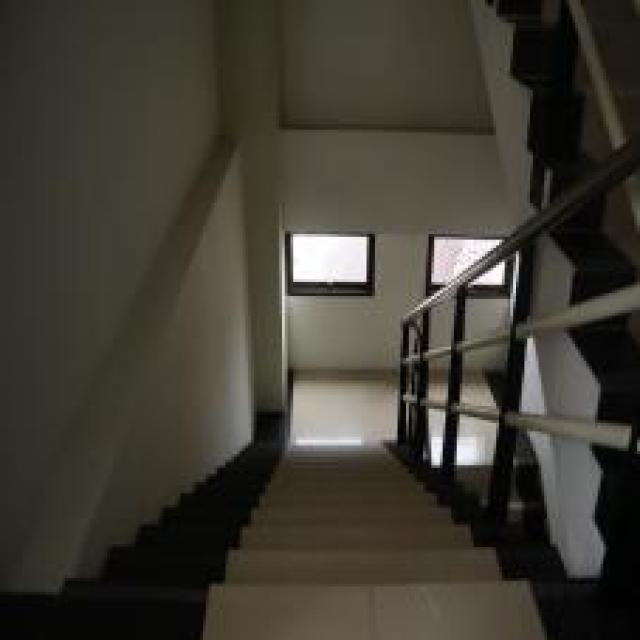downstair: (162, 424, 438, 638)
